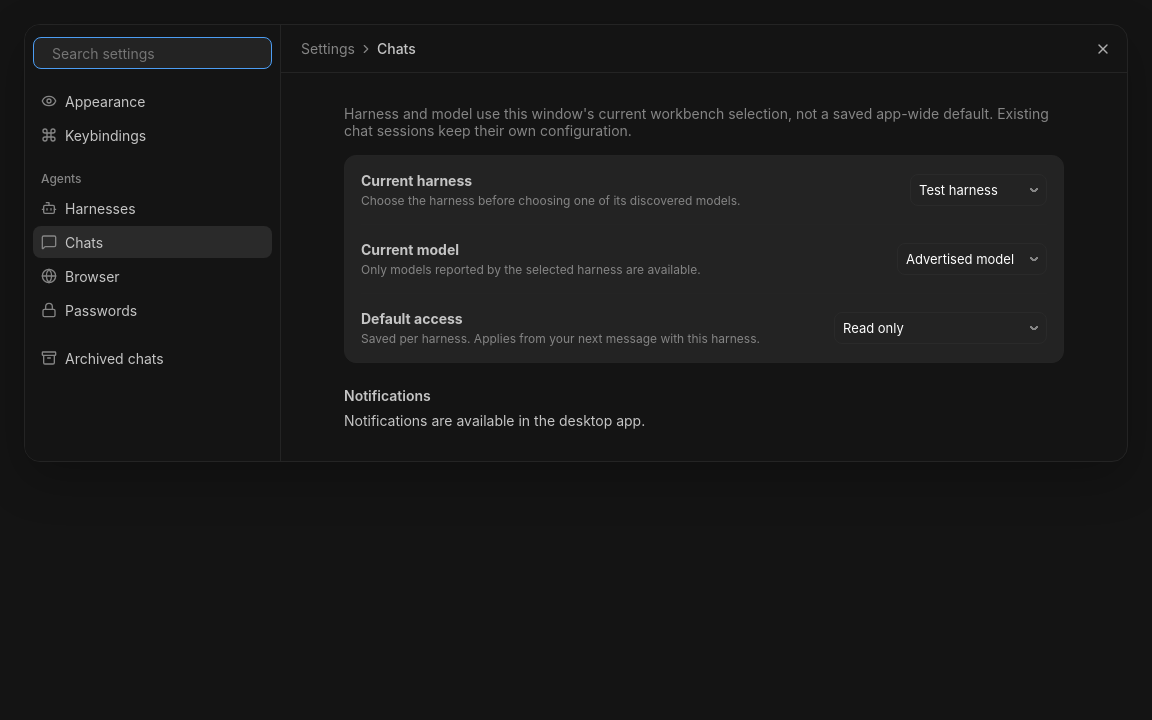
Test case: lists every implemented browser shortcut with its browser-only scope
Click the button "Keybindings" at (152, 135), box 33,119 -> 272,151
(page scrolled)
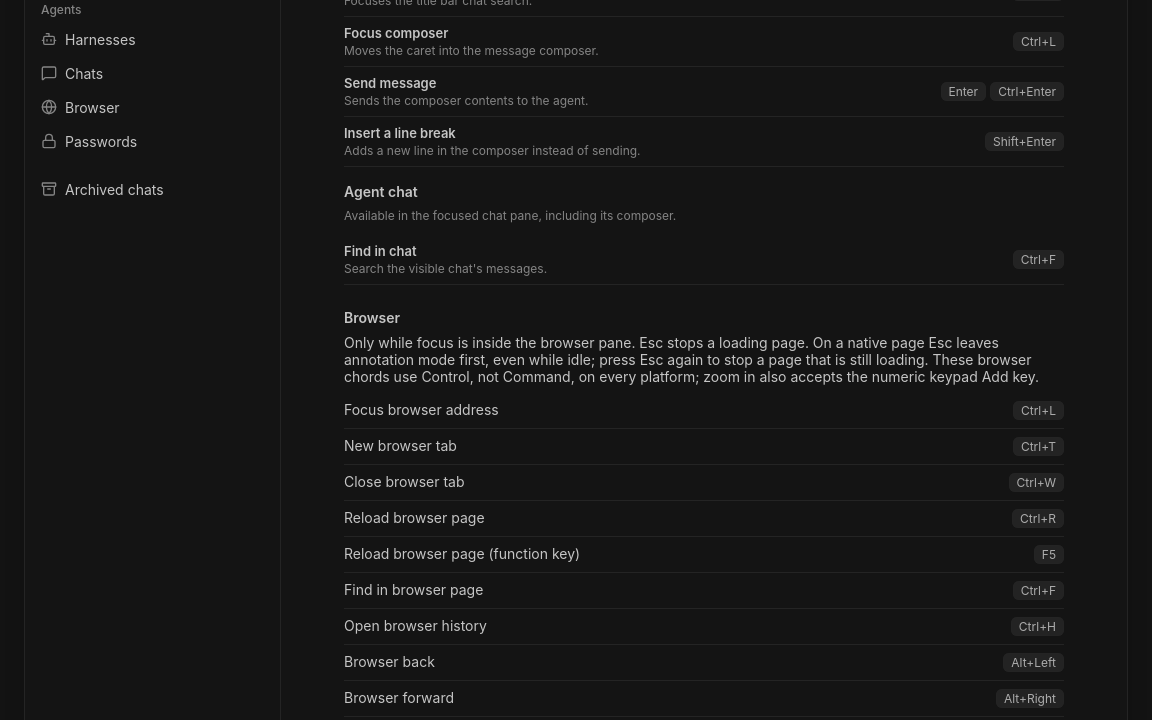
Expected: the column heading "New browser tab" is shown, 344,429 -> 1013,465
Expected: the text "Focus browser address" shows "Ctrl+L", 1021,403 -> 1056,418
Expected: the text "New browser tab" shows "Ctrl+T", 1021,439 -> 1056,454
